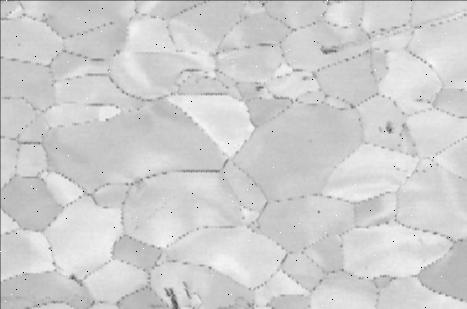good_void: (161, 284, 180, 309), (317, 43, 345, 58), (251, 76, 268, 95), (378, 119, 396, 134), (68, 273, 84, 287), (182, 281, 193, 301), (111, 47, 125, 57), (299, 74, 314, 83), (393, 165, 403, 172), (132, 224, 141, 231), (15, 40, 22, 48), (306, 137, 313, 145), (315, 208, 321, 214)
